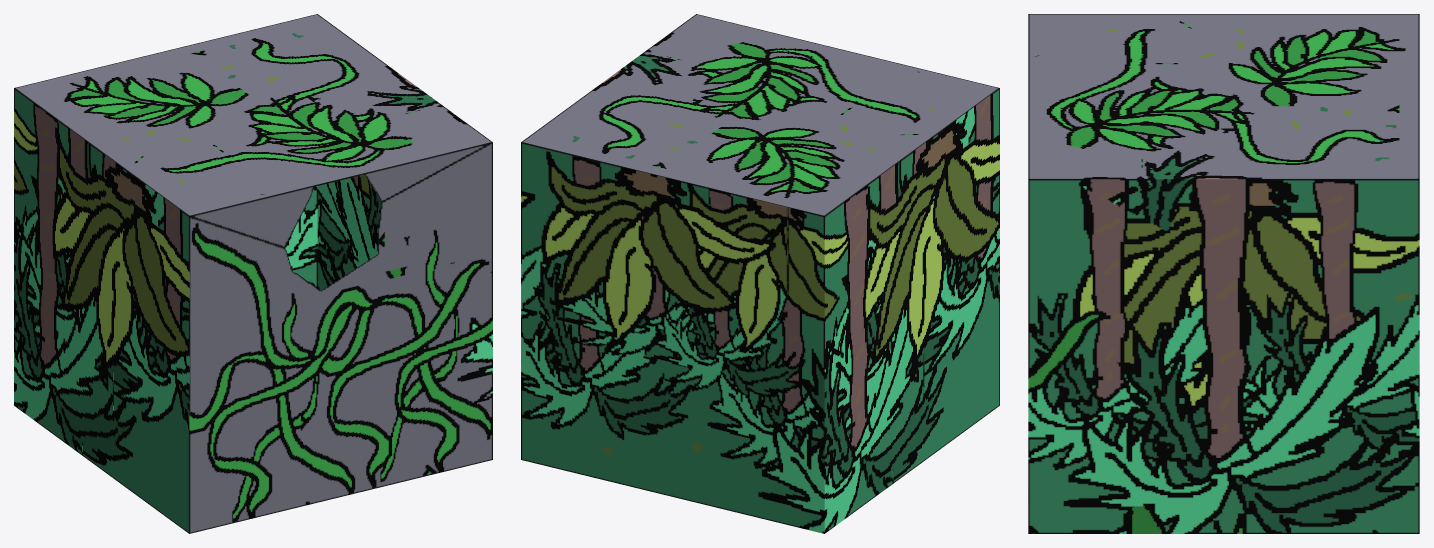
Rendered from camp.fbx.
3 renders of one model, left to right at view 1: azimuth 30°, elevation 25°; view 2: azimuth 150°, elevation 25°; view 3: azimuth 270°, elevation 25°, orthographic. The views are drawn at different scales.
Parts seen in each view (by area): view 1: Cube.002; view 2: Cube.002; view 3: Cube.002.
Part boxes in pixels (box(x1,y1,x2,y2)): Cube.002: box(14, 14, 492, 533); Cube.002: box(521, 14, 999, 533); Cube.002: box(1028, 14, 1419, 533).
Bounding box in the file's own units: 1327 × 1327 × 1327.
1 material, 1 textured.
